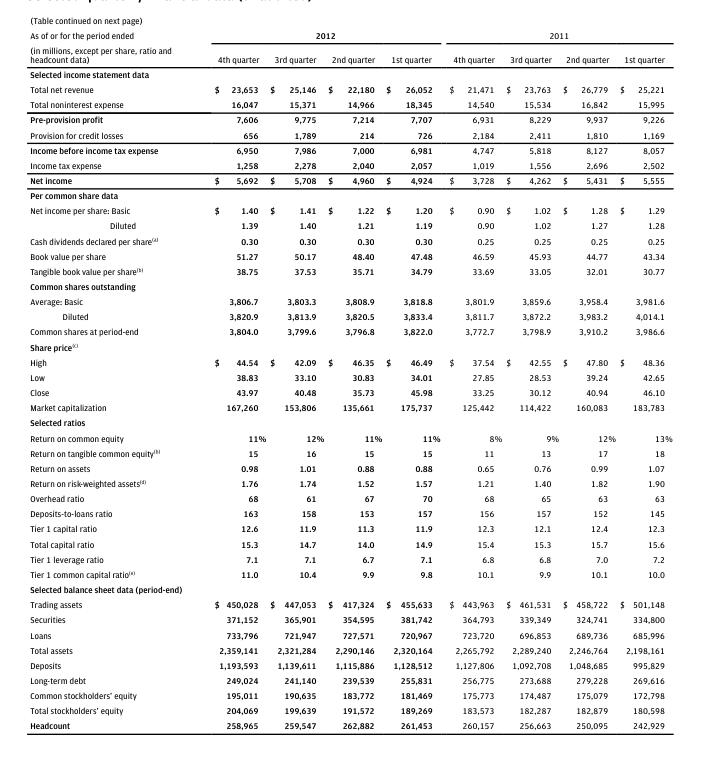table: (29, 29, 671, 730)
table column: (29, 29, 192, 730), (192, 29, 267, 730), (383, 29, 444, 730), (444, 29, 503, 730), (267, 29, 325, 730), (325, 29, 383, 730), (503, 29, 560, 730), (560, 29, 617, 730), (617, 29, 671, 730)
table column header: (29, 29, 671, 66)
table projected row header: (29, 338, 671, 354), (29, 66, 671, 81), (29, 187, 671, 202), (29, 278, 671, 293), (29, 414, 671, 429), (29, 581, 671, 596)
table row: (29, 46, 671, 66), (29, 29, 671, 46), (29, 141, 671, 157), (29, 247, 671, 263), (29, 338, 671, 354), (29, 444, 671, 460), (29, 550, 671, 566), (29, 641, 671, 657), (29, 66, 671, 81), (29, 81, 671, 96), (29, 96, 671, 111), (29, 111, 671, 126), (29, 126, 671, 141), (29, 157, 671, 172), (29, 172, 671, 187), (29, 187, 671, 202), (29, 202, 671, 217), (29, 217, 671, 232), (29, 232, 671, 247), (29, 263, 671, 278), (29, 278, 671, 293), (29, 293, 671, 308), (29, 308, 671, 323), (29, 323, 671, 338), (29, 354, 671, 369), (29, 369, 671, 384), (29, 384, 671, 399), (29, 399, 671, 414), (29, 414, 671, 429), (29, 429, 671, 444), (29, 460, 671, 475), (29, 475, 671, 490), (29, 490, 671, 505), (29, 505, 671, 520), (29, 520, 671, 535), (29, 535, 671, 550), (29, 566, 671, 581), (29, 581, 671, 596), (29, 596, 671, 611), (29, 611, 671, 626), (29, 626, 671, 641), (29, 657, 671, 672), (29, 672, 671, 687), (29, 687, 671, 702), (29, 702, 671, 717), (29, 717, 671, 730)
table spanning cell: (29, 29, 192, 66), (192, 29, 444, 46), (444, 29, 671, 46)
